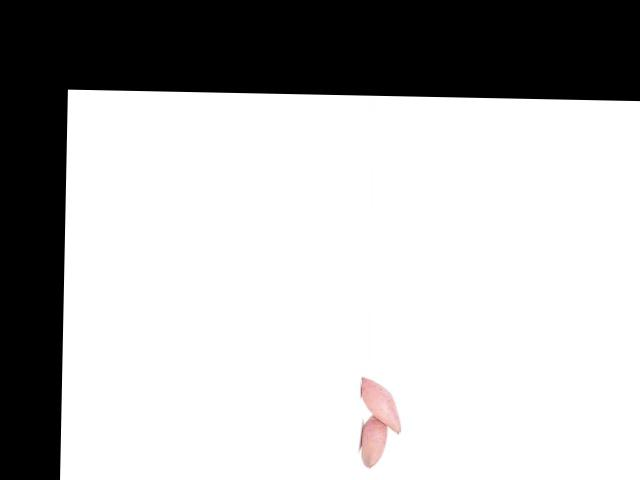sweet_potato: (360, 410, 391, 470)
